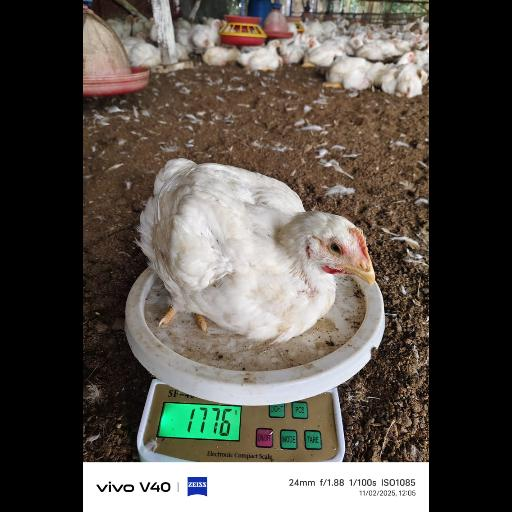chick: (138, 157, 377, 343)
